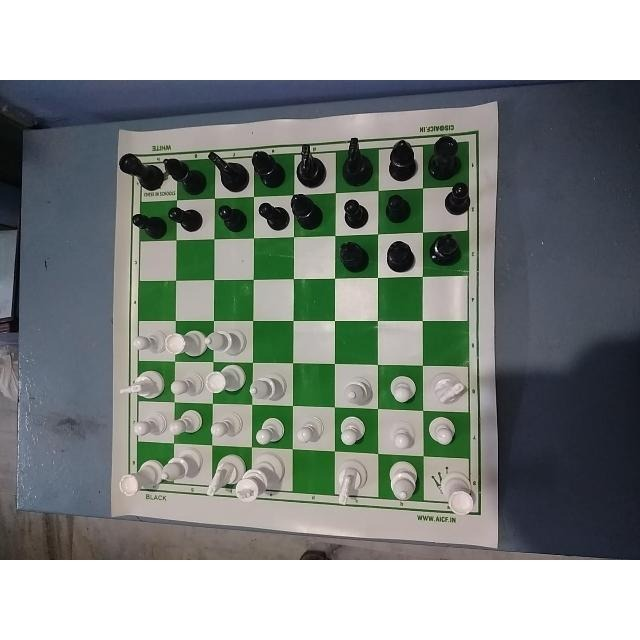black-bishop: (385, 137, 418, 184), (163, 154, 203, 192), (253, 144, 287, 188), (429, 230, 463, 272), (339, 237, 374, 277), (382, 239, 418, 275), (292, 194, 324, 232)
black-knight: (207, 147, 247, 193), (341, 136, 373, 187), (295, 142, 327, 189)
black-pawn: (256, 197, 287, 239), (383, 190, 415, 230), (215, 199, 247, 237), (130, 206, 163, 240), (170, 201, 202, 235), (341, 196, 371, 230), (441, 184, 469, 220)
black-rook: (427, 135, 471, 175), (118, 149, 160, 189)
white-bishop: (204, 325, 251, 358), (385, 462, 420, 506), (251, 367, 289, 405), (340, 367, 376, 407), (163, 451, 201, 481)
white-king: (246, 457, 288, 502)
white-knight: (330, 460, 368, 512), (204, 450, 236, 500), (429, 369, 473, 405), (121, 365, 165, 399)
white-pawn: (387, 372, 420, 410), (132, 324, 164, 360), (429, 413, 459, 451), (168, 409, 204, 440), (134, 407, 168, 438), (337, 411, 364, 449), (212, 412, 244, 441), (387, 418, 415, 450), (172, 373, 204, 401), (258, 415, 284, 447), (296, 417, 324, 445)
white-rook: (435, 468, 477, 520), (118, 457, 160, 499), (166, 324, 202, 357), (206, 367, 246, 396)
